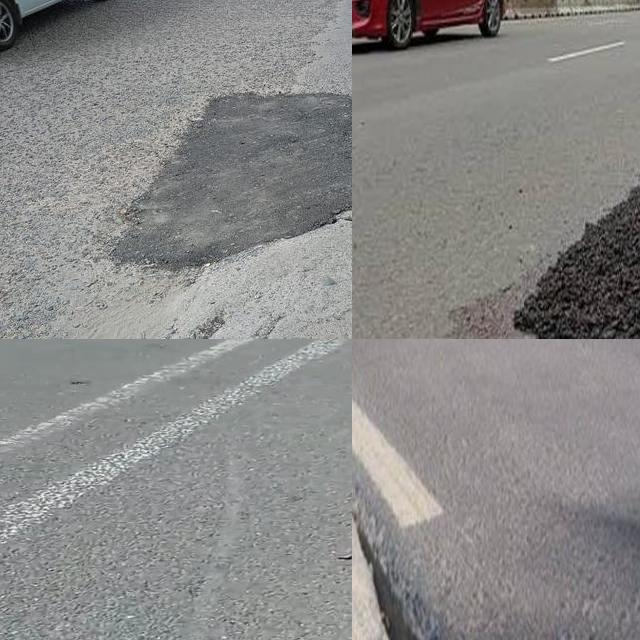Sambungan: (110, 100, 352, 268), (514, 180, 640, 339)
